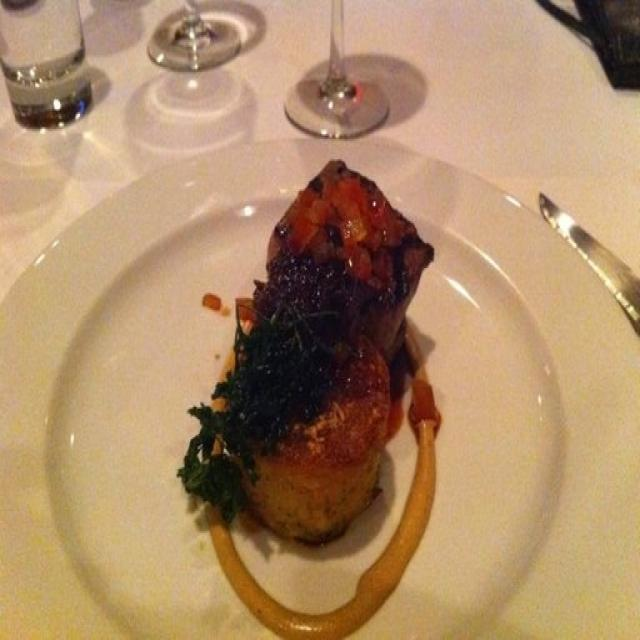Steak: (176, 176, 468, 528)
